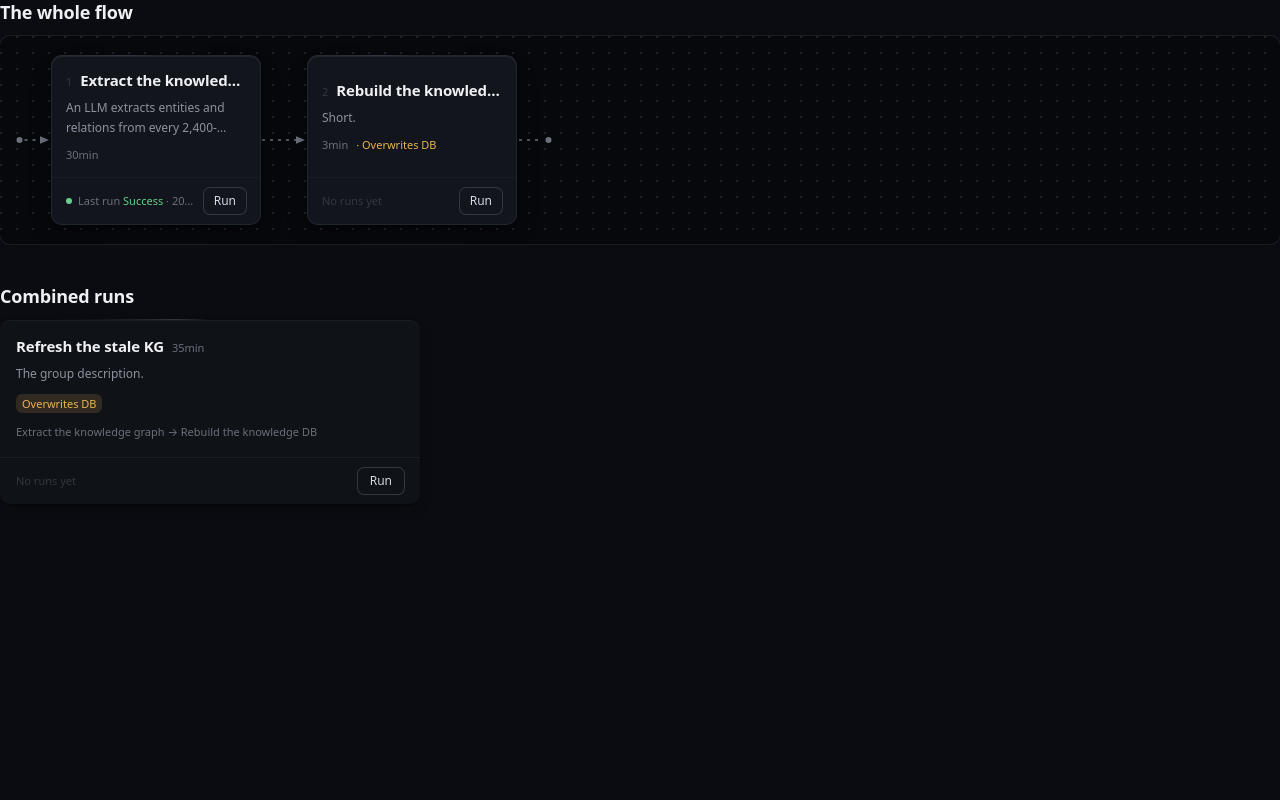
Test case: StepDetail — the full text of a truncated description › it opens from a group card too
Click the button "Refresh the stale KG".
click(90, 346)  # box x1=0 y1=320 x2=420 y2=457
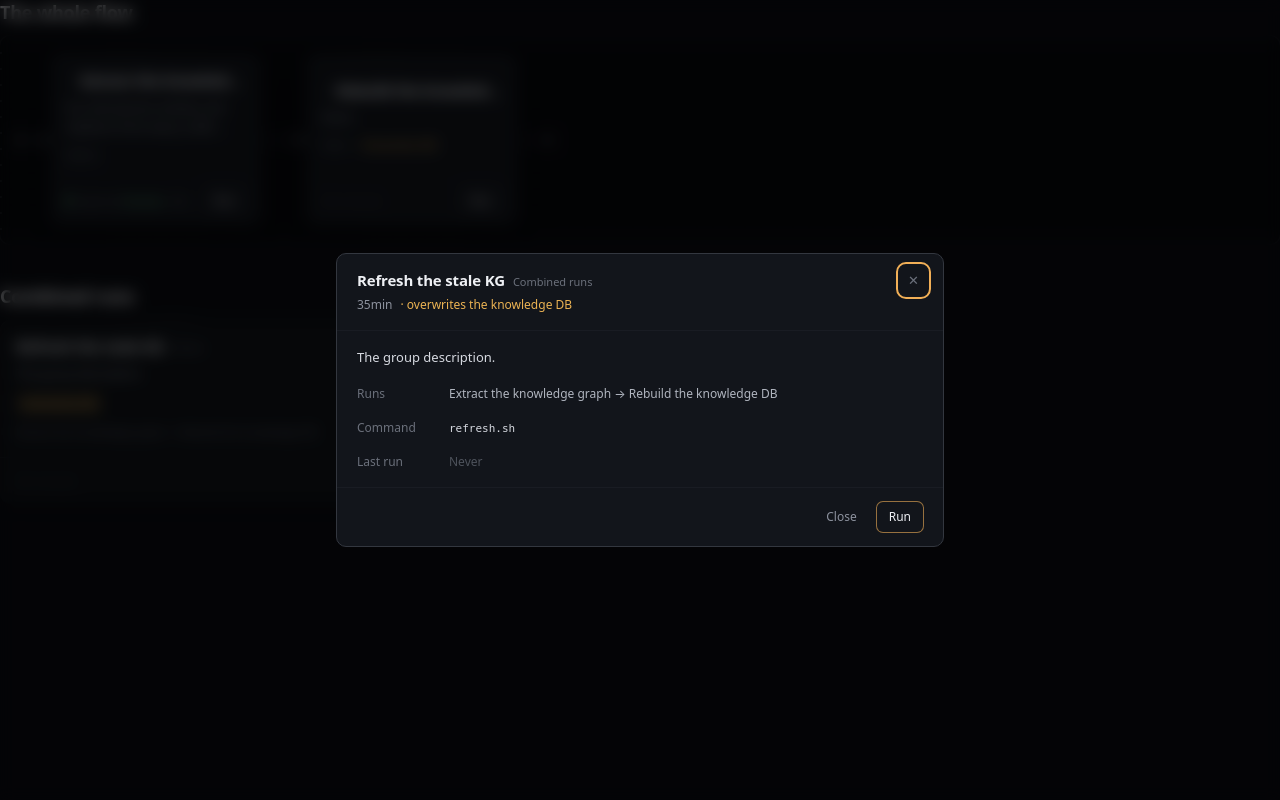
Now the dialog shows "The group description", box x1=357 y1=348 x2=495 y2=366
Now the dialog shows "Extract the knowledge graph", box x1=449 y1=385 x2=778 y2=402
Now the dialog shows "Rebuild the knowledge DB", box x1=449 y1=385 x2=778 y2=402
